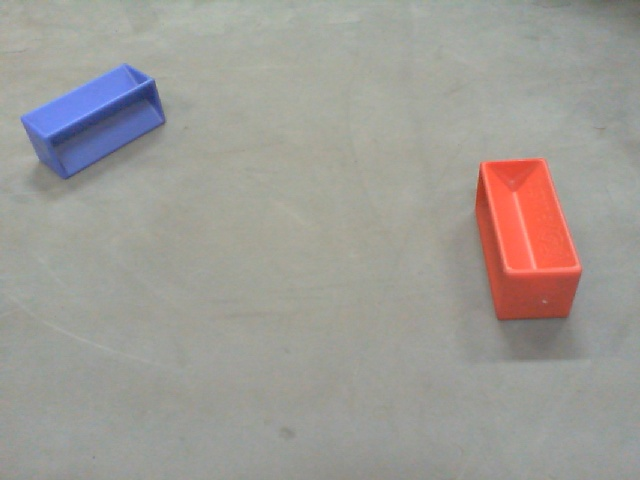BlueSample: (18, 60, 168, 183)
RedSample: (469, 153, 587, 327)
